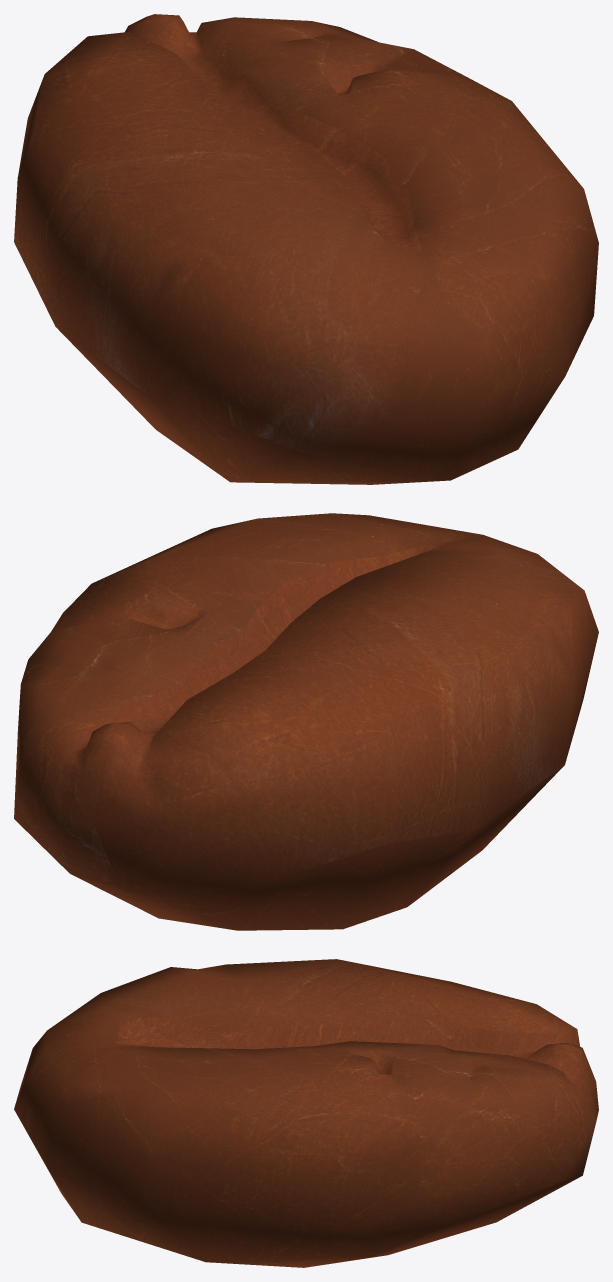
The model's file is Coffee_Bean.fbx.
3 views of the same model, one above another, from view 1: azimuth 30°, elevation 25°; view 2: azimuth 150°, elevation 25°; view 3: azimuth 270°, elevation 25° (orthographic). The views are drawn at different scales.
Parts seen in each view (by area): view 1: transform1; view 2: transform1; view 3: transform1.
Part boxes in pixels (<box>): transform1: <box>14,14,598,484</box>; transform1: <box>14,513,598,930</box>; transform1: <box>14,959,598,1267</box>.
Bounding box in the file's own units: 0.7899 × 0.5206 × 1.17.
Materials: 1 (1 with a texture image).
